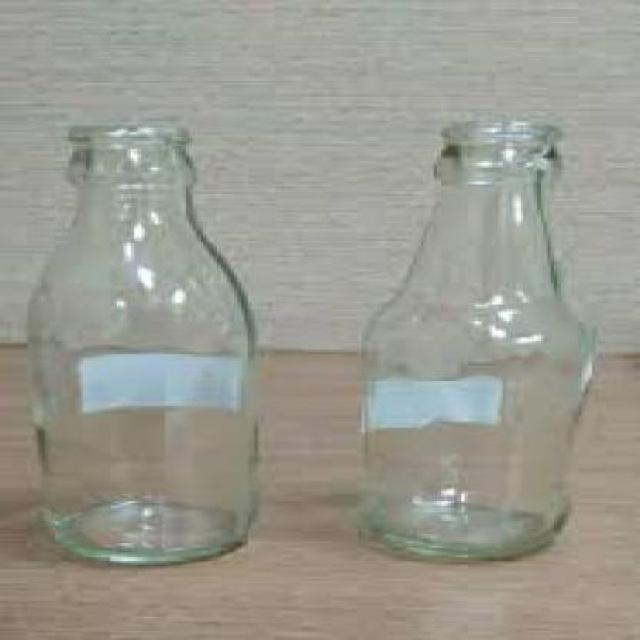kaca: (358, 118, 592, 557), (31, 123, 255, 565)
